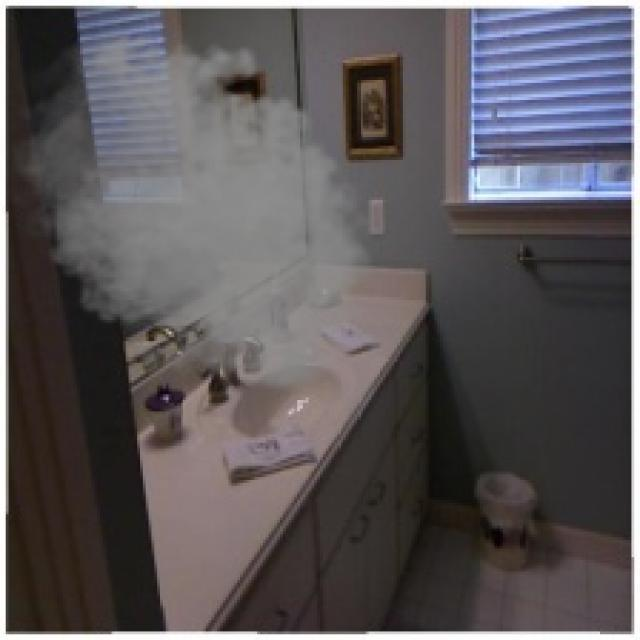Smoke: (0, 20, 383, 397)
